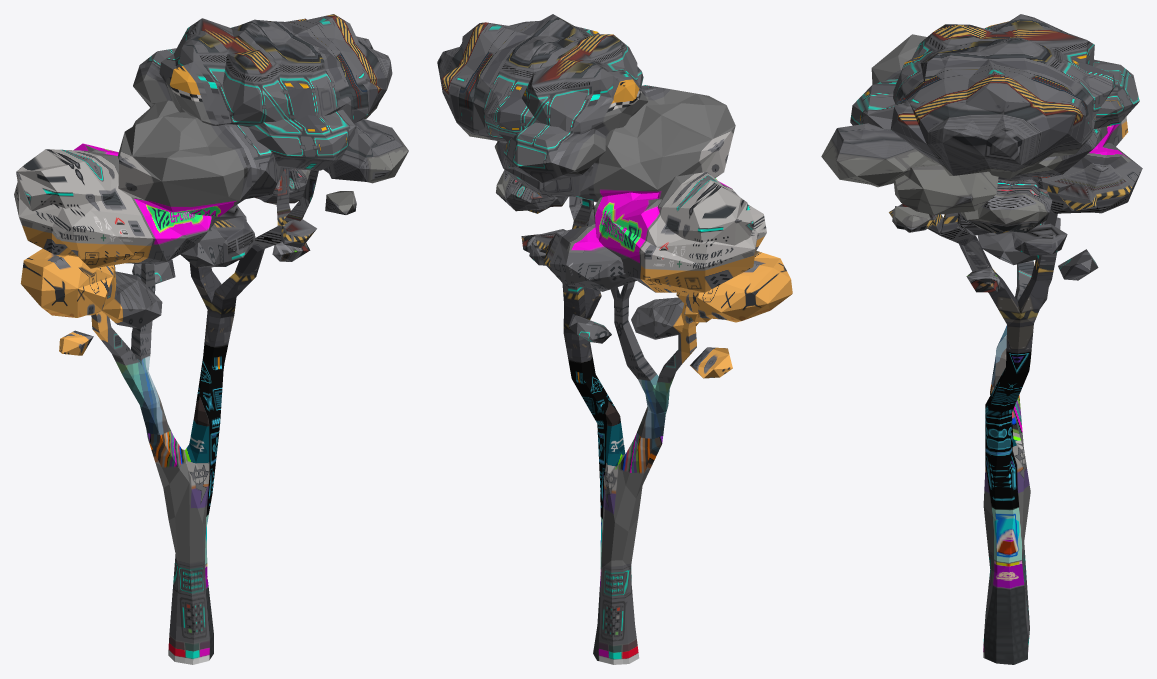
The model's file is SM_Env_Hologram_Tree_02.fbx.
3 views of the same model, side by side, from view 1: azimuth 30°, elevation 25°; view 2: azimuth 150°, elevation 25°; view 3: azimuth 270°, elevation 25° (orthographic). The views are drawn at different scales.
Visible parts, largest first — view 1: SM_Env_Hologram_Tree_02; view 2: SM_Env_Hologram_Tree_02; view 3: SM_Env_Hologram_Tree_02.
Boxes of the visible parts, x1,y1,x2,y2 form: SM_Env_Hologram_Tree_02: [14, 14, 408, 664]; SM_Env_Hologram_Tree_02: [437, 14, 792, 664]; SM_Env_Hologram_Tree_02: [821, 14, 1142, 664].
Size of the model in its own units: 331 by 565 by 249.
